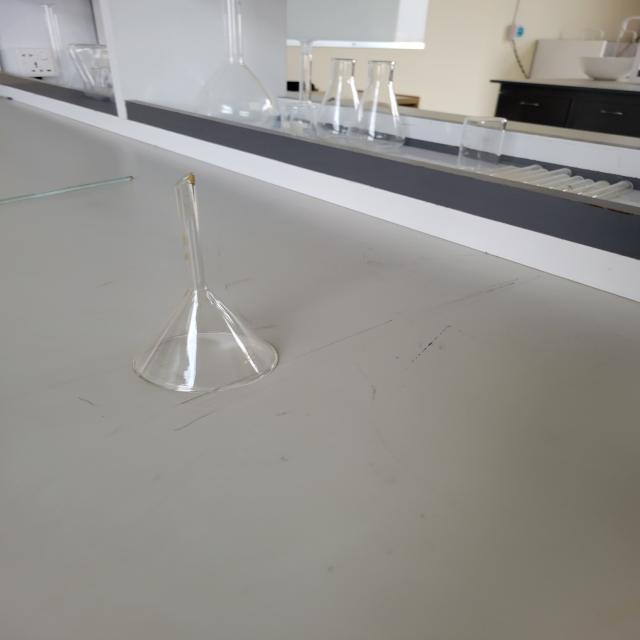Funnel: (115, 138, 309, 412)
